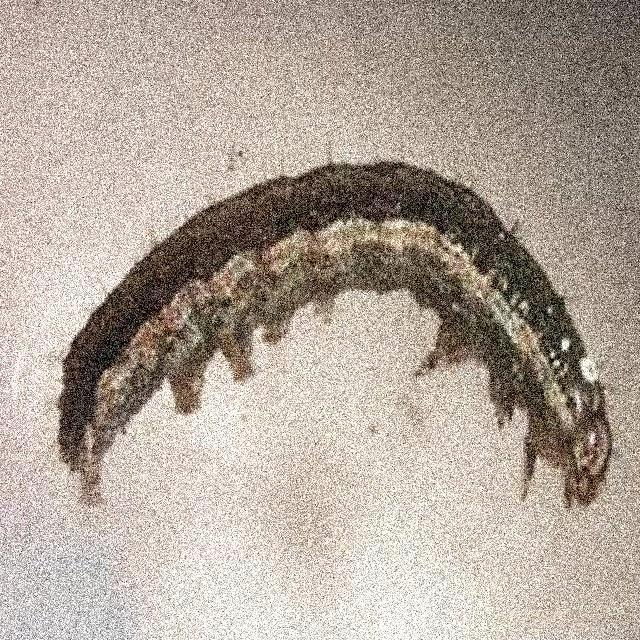gusano_cogollero: (54, 148, 613, 516)
